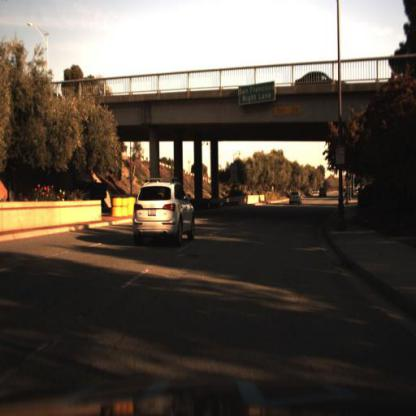car: (124, 168, 205, 253), (296, 70, 346, 94), (289, 189, 307, 210), (317, 185, 331, 200)
